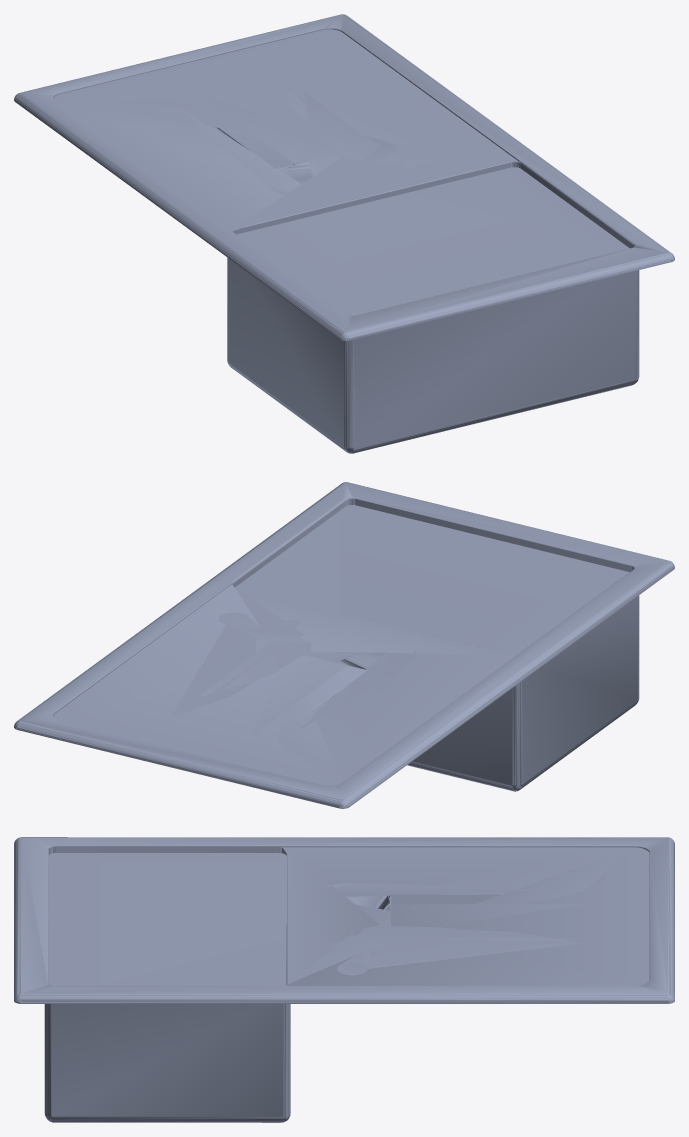
The model's file is Sink3D_reduced_vertices.fbx.
The picture shows the model from 3 angles, top to bottom: view 1: azimuth 30°, elevation 25°; view 2: azimuth 150°, elevation 25°; view 3: azimuth 270°, elevation 25°; orthographic projection.
Visible parts, largest first — view 1: PartBody.003; view 2: PartBody.003; view 3: PartBody.003.
Part boxes in pixels (x1,y1,x2,y2): PartBody.003: (14,14,674,453); PartBody.003: (14,482,674,808); PartBody.003: (14,837,674,1122).
Size of the model in its own units: 50 by 20 by 86.
